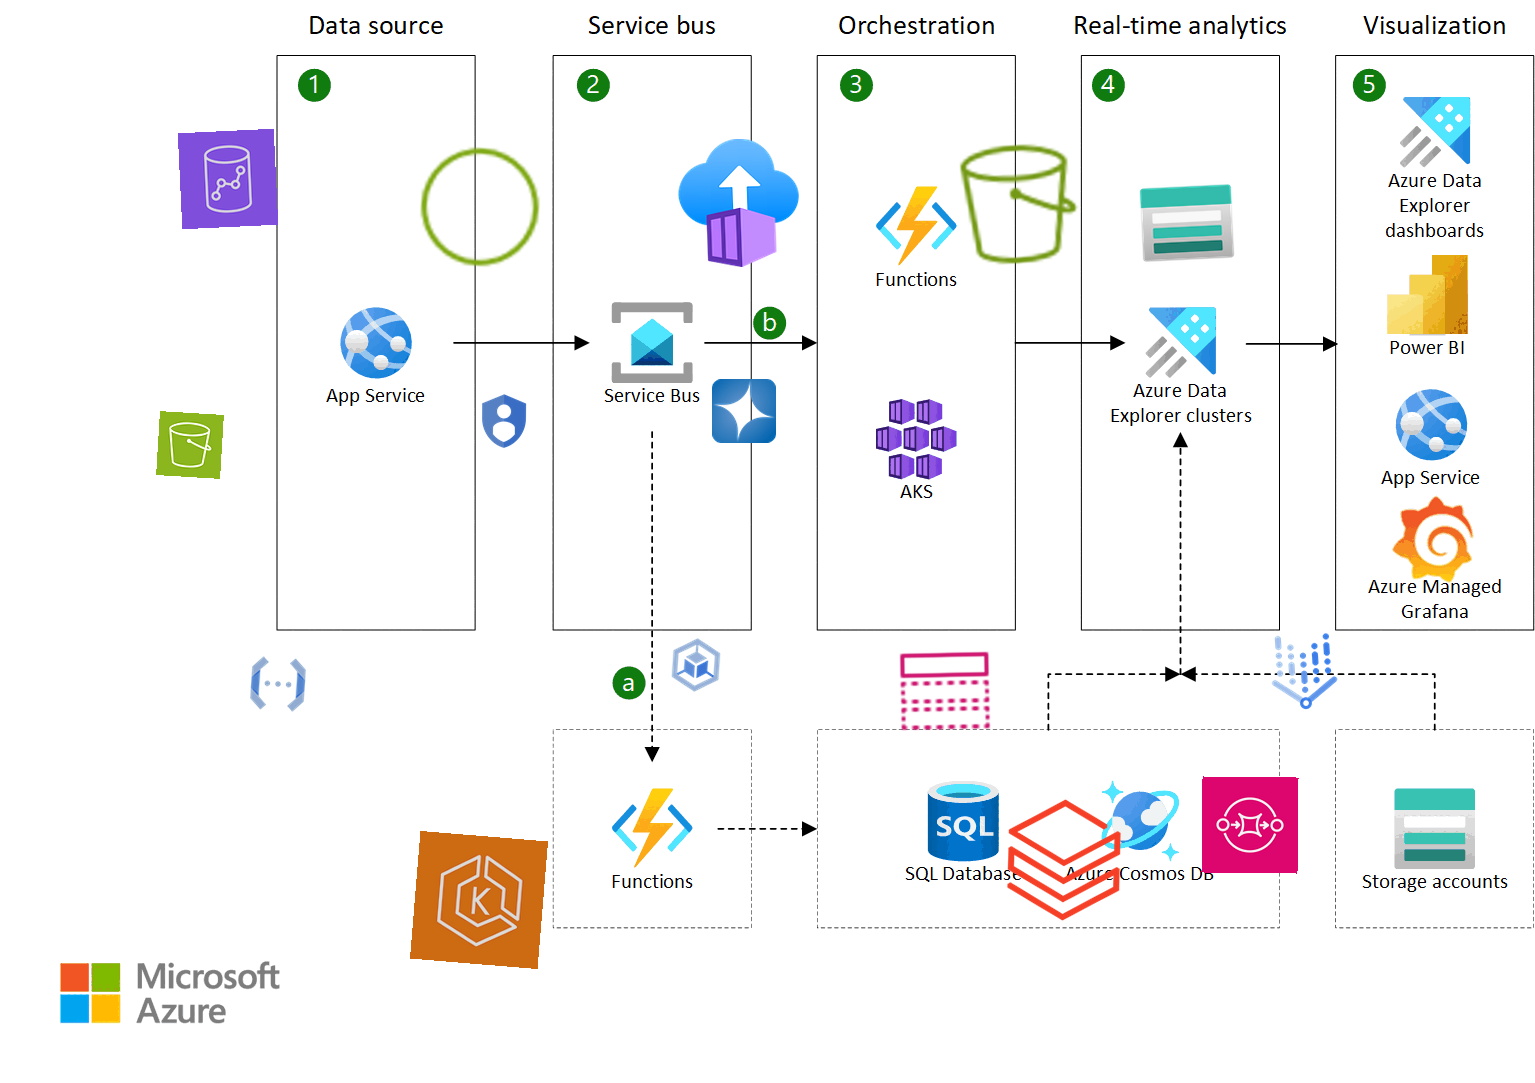aws_amazon_elastic_kubernetes_service: (409, 830, 550, 970)
aws_amazon_redshift: (177, 128, 279, 230)
aws_amazon_simple_queue_service: (1201, 776, 1299, 874)
aws_amazon_simple_storage_service: (156, 411, 224, 479)
aws_simple_notification_service_topic: (895, 641, 995, 741)
aws_simple_storage_service_bucket: (951, 136, 1087, 272)
aws_simple_storage_service_object: (412, 139, 548, 275)
azure_container_instances: (671, 136, 806, 270)
azure_databricks: (998, 793, 1130, 926)
azure_openai: (711, 379, 777, 444)
azure_storage_accounts: (1135, 172, 1239, 274)
gcp_cloud_functions: (243, 649, 313, 718)
gcp_google_kubernetes_engine: (661, 631, 731, 700)
gcp_identity_and_access_management: (471, 388, 537, 454)
gcp_vertex_ai: (1253, 621, 1355, 723)
